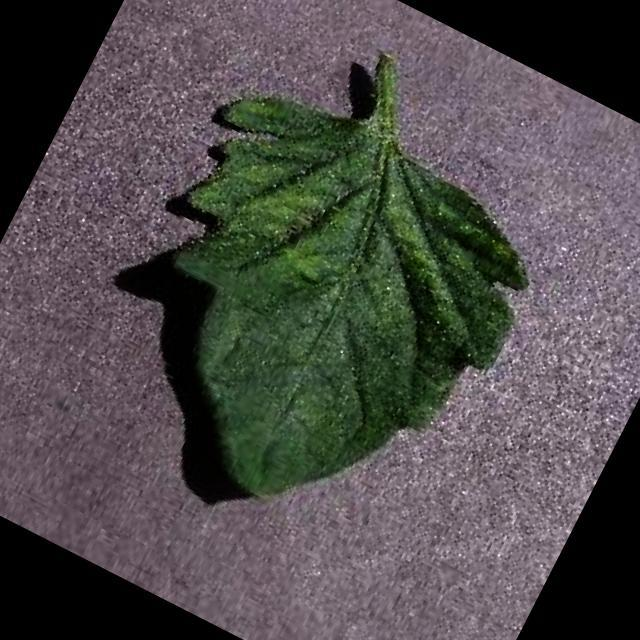Tomato mosaic virus leaf: (67, 62, 565, 568)
